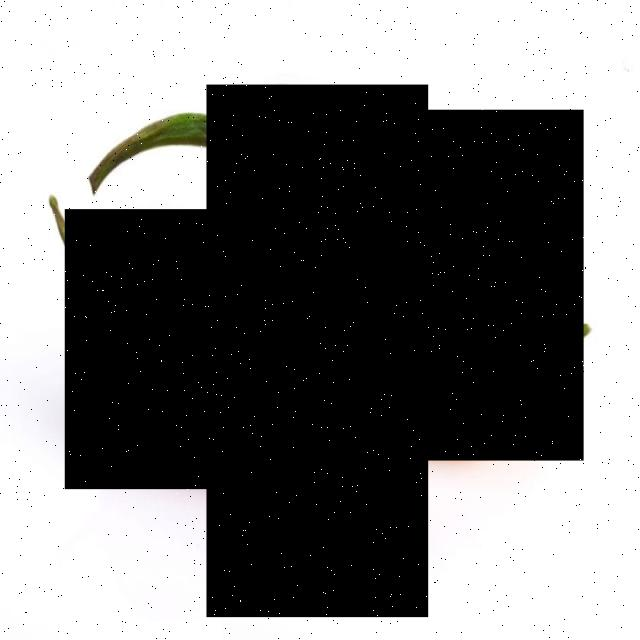Chili_Pepper: (207, 86, 428, 618), (65, 210, 354, 490), (378, 110, 584, 460)
